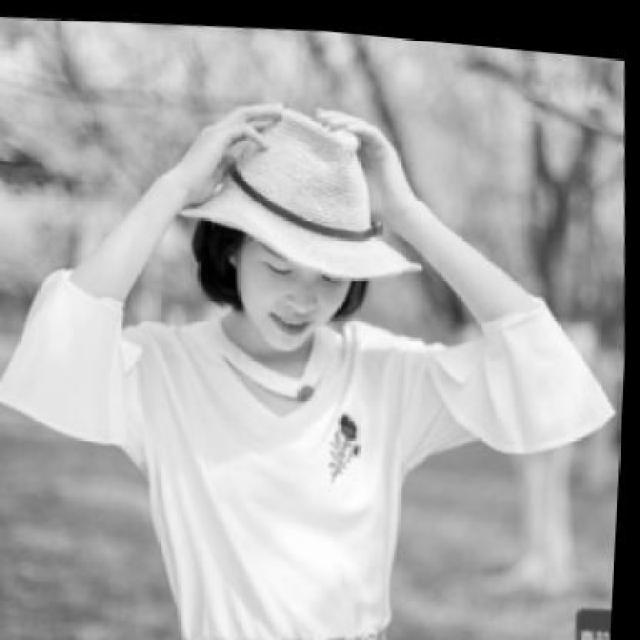hat: (170, 81, 433, 288)
